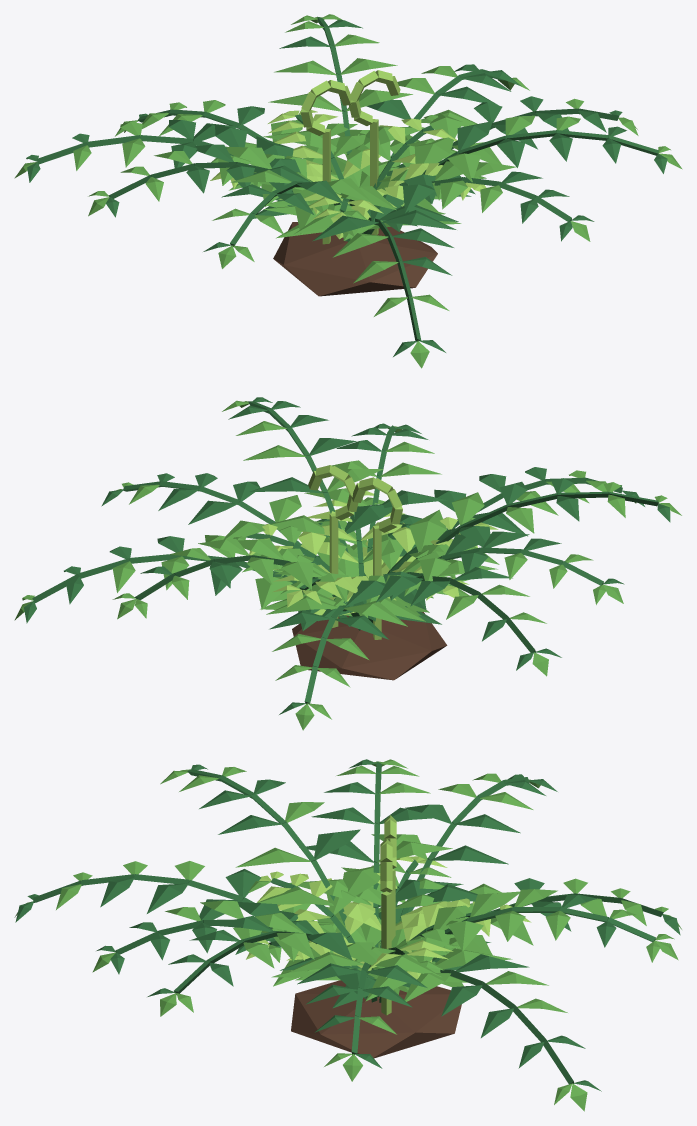
Rendered from fern_cluster.glb.
3 renders of one model, top to bottom at view 1: azimuth 30°, elevation 25°; view 2: azimuth 150°, elevation 25°; view 3: azimuth 270°, elevation 25°, orthographic. The views are drawn at different scales.
Visible parts, largest first — view 1: Fern Cluster; view 2: Fern Cluster; view 3: Fern Cluster.
Boxes of the visible parts, x1,y1,x2,y2 form: Fern Cluster: (14,14,682,368); Fern Cluster: (14,397,681,730); Fern Cluster: (14,759,681,1111).
Bounding box in the file's own units: 1.26 × 0.4241 × 1.28.
Materials: 1 (1 with a texture image).
